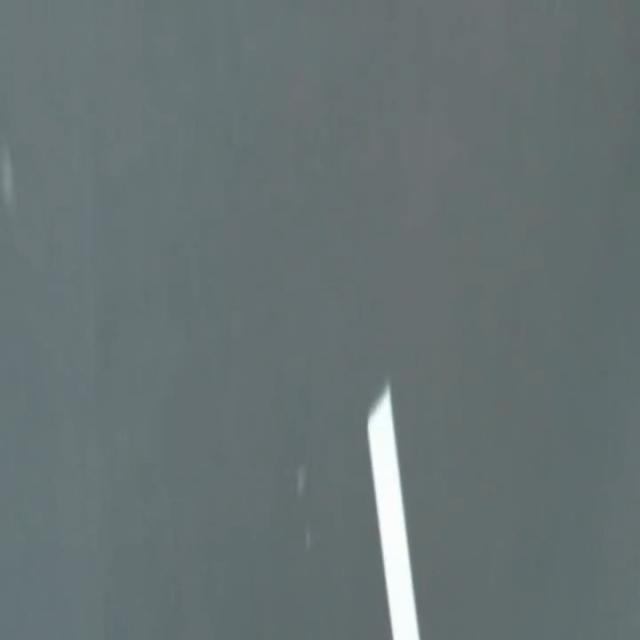center: (367, 384, 420, 639)
